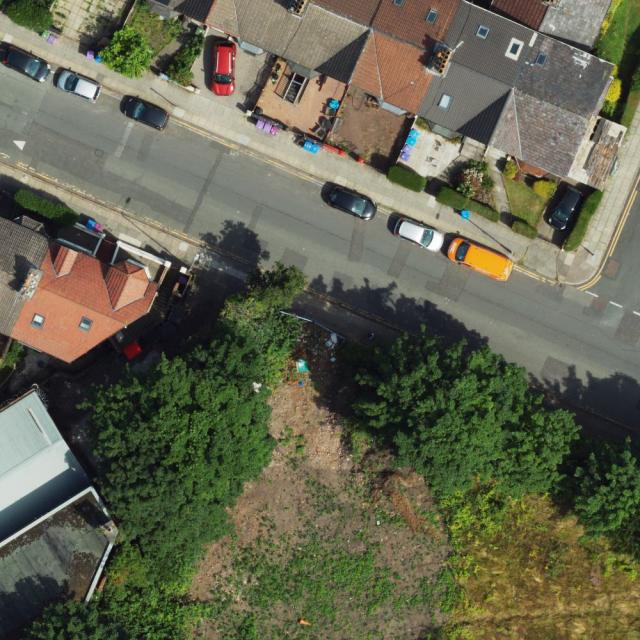roof: (136, 0, 618, 180), (1, 387, 119, 639), (1, 218, 158, 363)
skylight: (502, 36, 527, 62), (435, 90, 456, 113), (76, 316, 96, 335), (475, 22, 493, 41), (28, 312, 48, 329), (424, 7, 442, 25), (533, 50, 550, 69), (390, 0, 407, 7)
